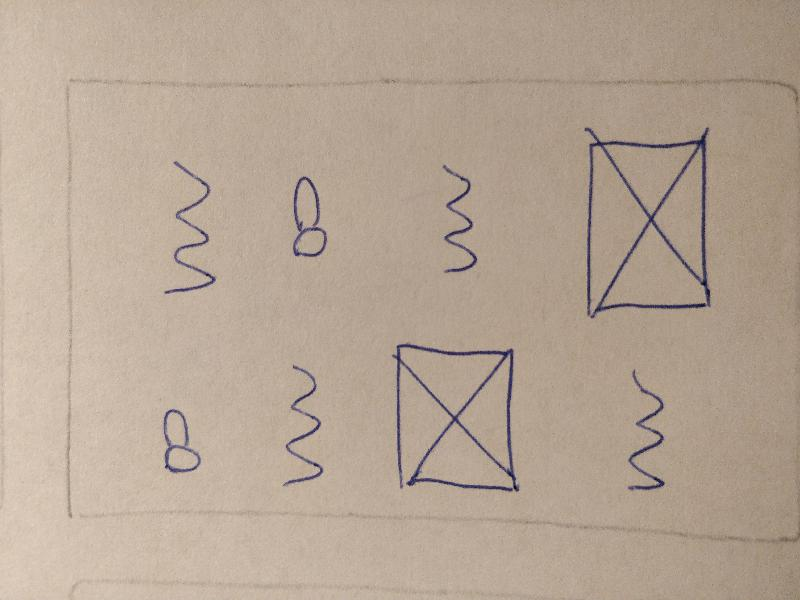image: (566, 127, 716, 323), (376, 332, 531, 502)
switch: (276, 161, 344, 268), (144, 392, 212, 480)
text: (139, 150, 244, 307), (607, 359, 681, 499), (418, 148, 490, 285), (262, 357, 335, 485)
